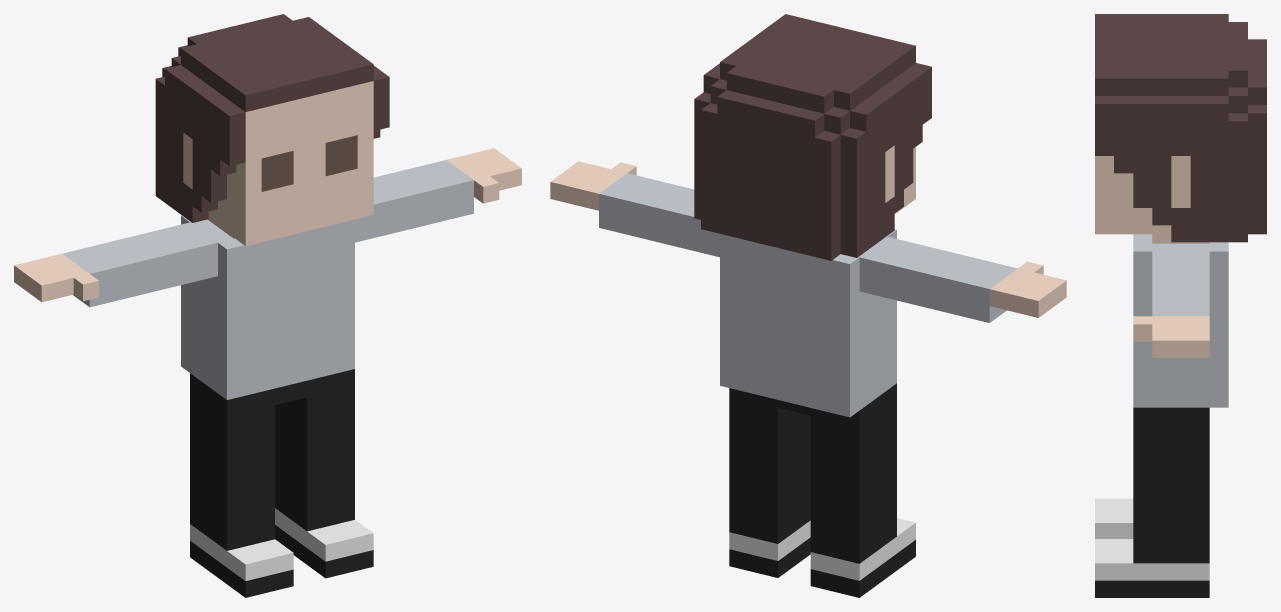
Rendered from student-11.obj.
The picture shows the model from 3 angles, left to right: view 1: azimuth 30°, elevation 25°; view 2: azimuth 150°, elevation 25°; view 3: azimuth 270°, elevation 25°; orthographic projection. The views are drawn at different scales.
Size of the model in its own units: 3 by 3 by 0.9.
Materials: 1 (1 with a texture image).
